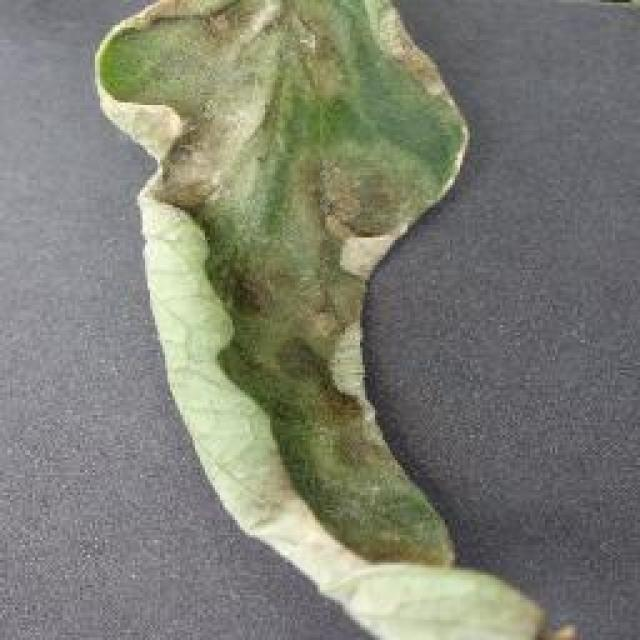Tomato___Late_blight: (87, 0, 583, 638)
